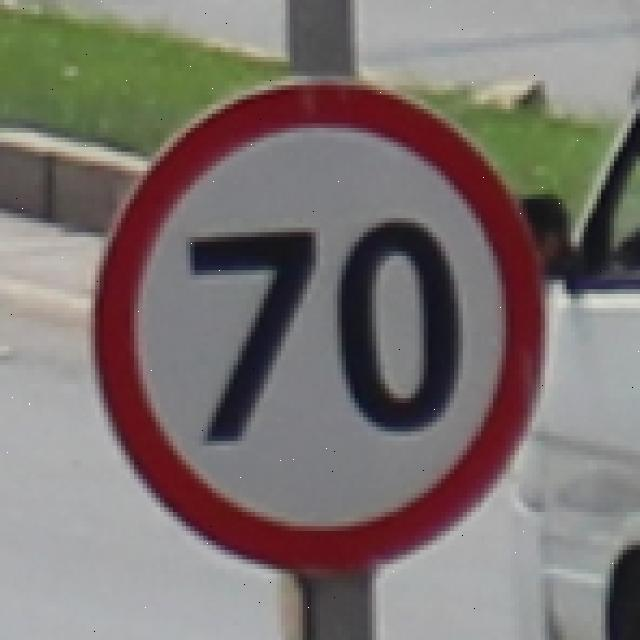speed limit 70: (89, 80, 548, 576)
